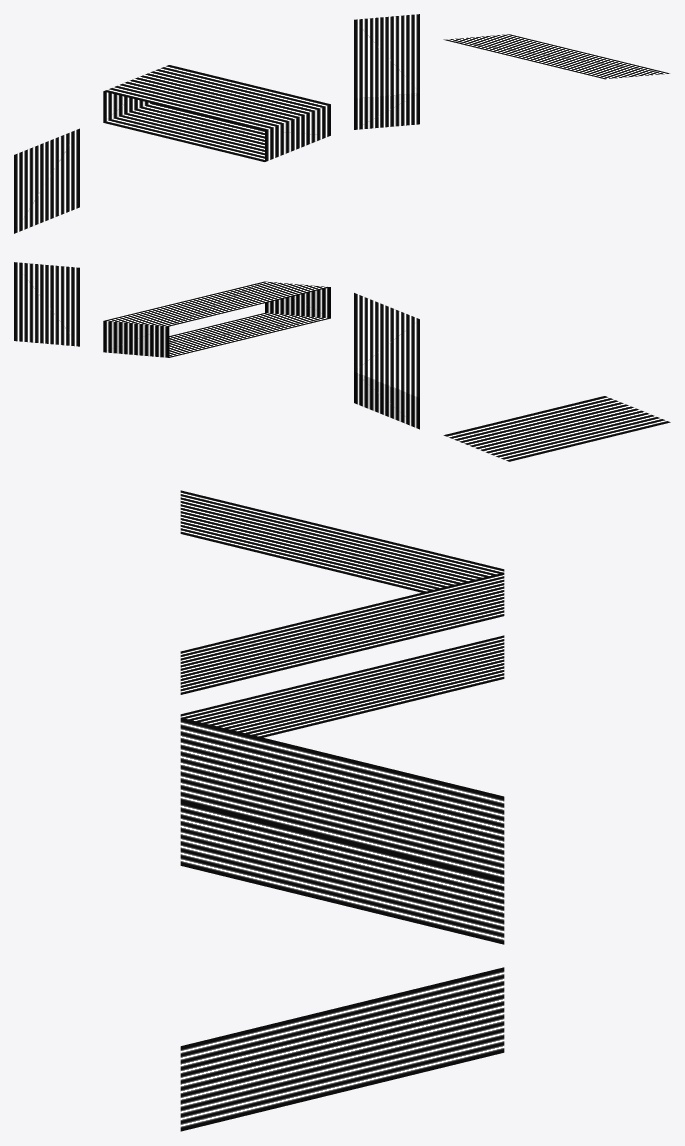
The model's file is portal.glb.
3 views of the same model, one above another, from view 1: azimuth 30°, elevation 25°; view 2: azimuth 150°, elevation 25°; view 3: azimuth 270°, elevation 25° (orthographic). The views are drawn at different scales.
Visible parts, largest first — view 1: Cube.001_Baked.000, Cube.001_Baked.002, Cube.001_Baked.001, Cube.001_Baked.003; view 2: Cube.001_Baked.002, Cube.001_Baked.000, Cube.001_Baked.001, Cube.001_Baked.003; view 3: Cube.001_Baked.002, Cube.001_Baked.003, Cube.001_Baked.000, Cube.001_Baked.001.
Part boxes in pixels (left/top/right/bottom): Cube.001_Baked.000: left=103, top=65, right=330, bottom=161; Cube.001_Baked.002: left=354, top=14, right=419, bottom=129; Cube.001_Baked.001: left=14, top=128, right=79, bottom=233; Cube.001_Baked.003: left=443, top=34, right=669, bottom=79; Cube.001_Baked.002: left=103, top=281, right=330, bottom=357; Cube.001_Baked.000: left=354, top=293, right=419, bottom=429; Cube.001_Baked.001: left=443, top=396, right=670, bottom=461; Cube.001_Baked.003: left=14, top=262, right=79, bottom=346; Cube.001_Baked.002: left=180, top=717, right=504, bottom=944; Cube.001_Baked.003: left=180, top=967, right=504, bottom=1131; Cube.001_Baked.000: left=180, top=572, right=504, bottom=737; Cube.001_Baked.001: left=180, top=490, right=504, bottom=592.
Size of what is drawn, in the model's own units: 65.69 by 5 by 14.
Materials: 1 (1 with a texture image).
